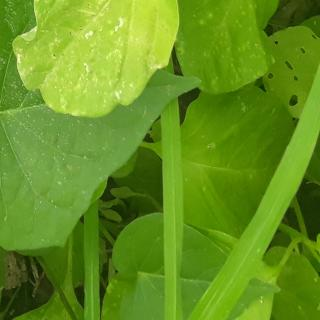karat_putih: (6, 0, 179, 122), (173, 0, 280, 98)
